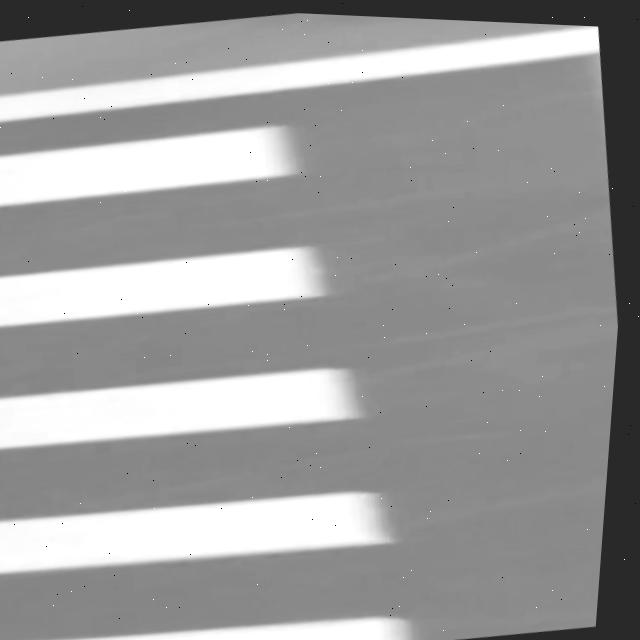left: (0, 26, 600, 121)
